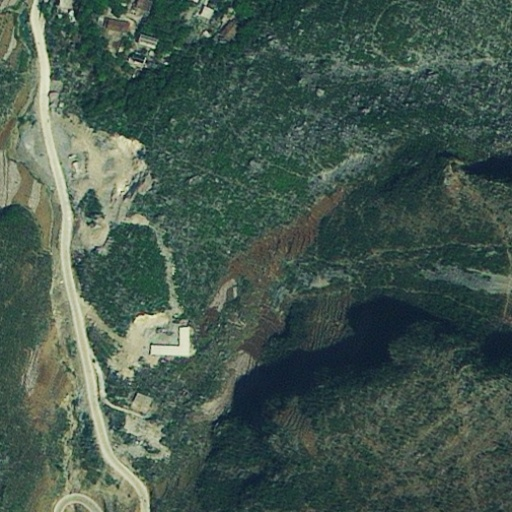landslide: (216, 190, 346, 299)
